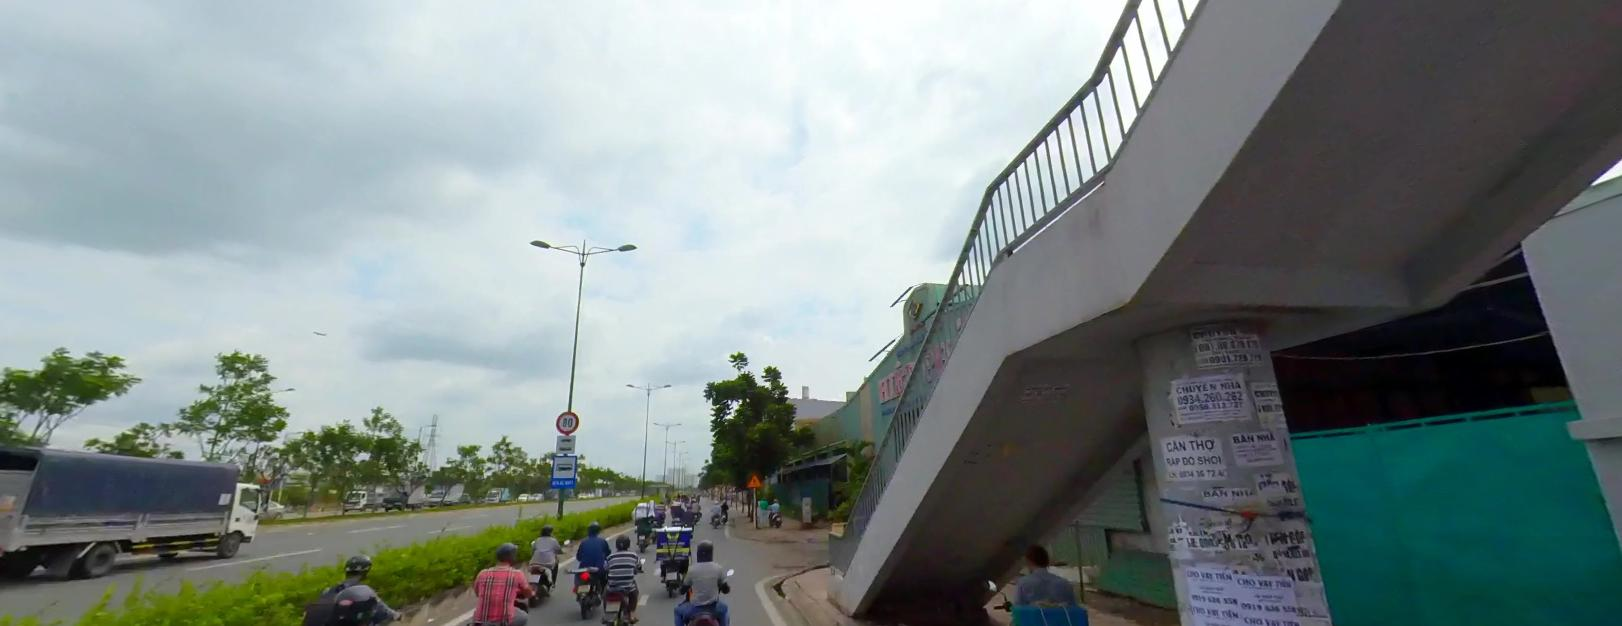Gioi han toc do: (554, 408, 579, 433)
Nguy hiem: (746, 471, 763, 486)
